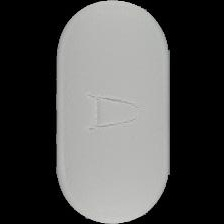13107-032: (0, 0, 224, 224)
